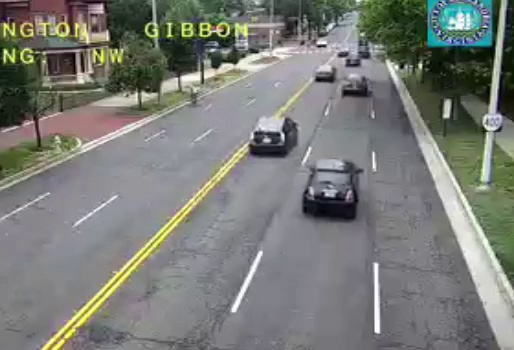car: (304, 159, 358, 208), (250, 117, 298, 153), (341, 75, 367, 95), (315, 66, 334, 81)
